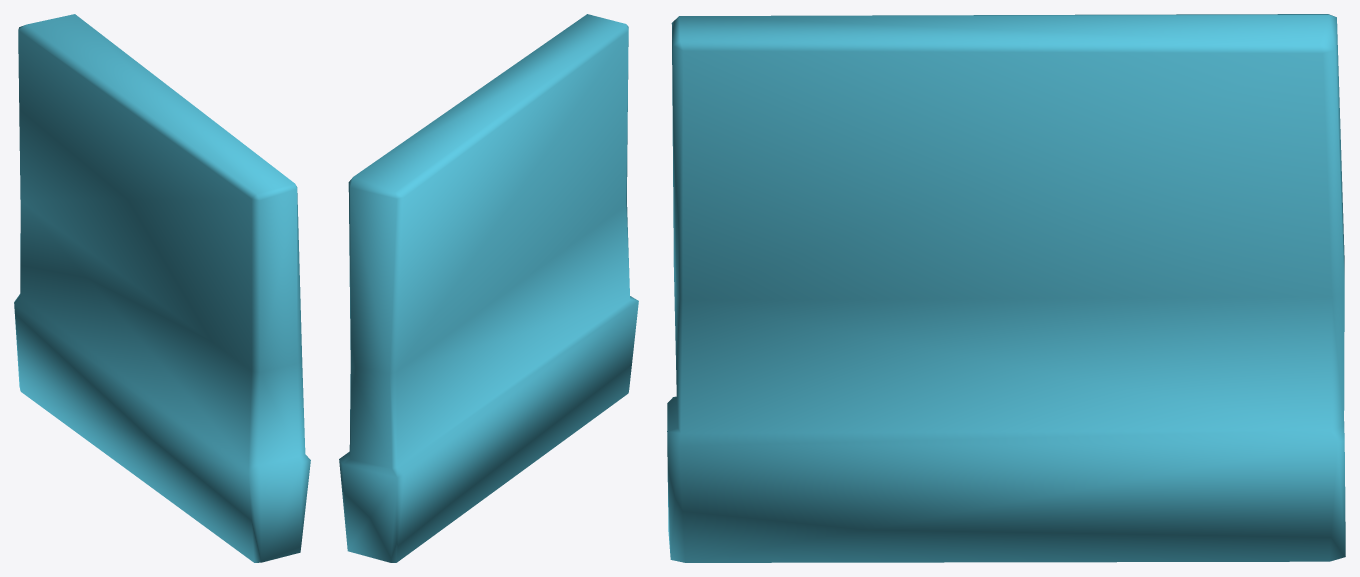
File: wall_04.FBX
The picture shows the model from 3 angles, left to right: view 1: azimuth 30°, elevation 25°; view 2: azimuth 150°, elevation 25°; view 3: azimuth 270°, elevation 25°; orthographic projection. The views are drawn at different scales.
Visible parts, largest first — view 1: wall_04; view 2: wall_04; view 3: wall_04.
Part boxes in pixels (left/top/right/bottom): wall_04: left=14, top=14, right=310, bottom=562; wall_04: left=339, top=14, right=638, bottom=562; wall_04: left=667, top=14, right=1345, bottom=562.
Bounding box in the file's own units: 17.95 × 98.68 × 116.
